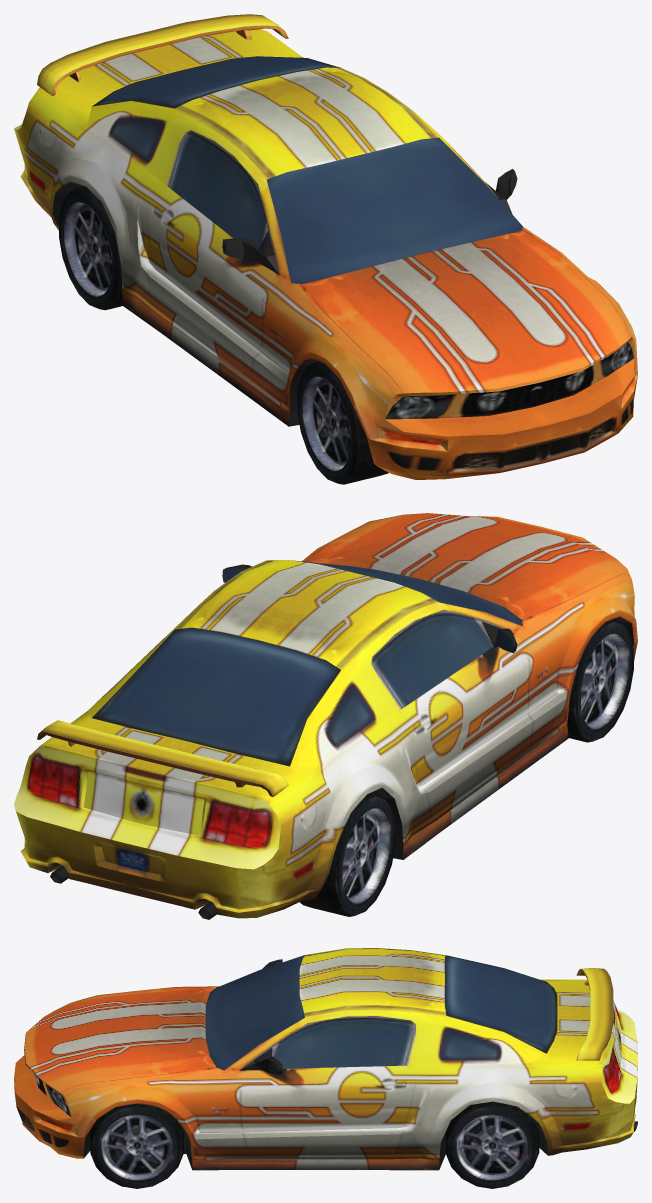
File: Ford Mustang Yellow.fbx
3 renders of one model, top to bottom at view 1: azimuth 30°, elevation 25°; view 2: azimuth 150°, elevation 25°; view 3: azimuth 270°, elevation 25°, orthographic. The views are drawn at different scales.
Visible parts, largest first — view 1: mustang, FR, RR; view 2: mustang, RR, FR; view 3: mustang, RL, FL.
Boxes of the visible parts, x1,y1,x2,y2 form: mustang: (14, 14, 637, 479); FR: (297, 361, 388, 484); RR: (59, 186, 122, 310); mustang: (14, 513, 637, 919); RR: (300, 792, 395, 916); FR: (567, 619, 633, 742); mustang: (14, 948, 637, 1170); RL: (445, 1101, 539, 1188); FL: (90, 1103, 183, 1188).
Bounding box in the file's own units: 180 × 133 × 447.
Materials: 10 (10 with a texture image).
